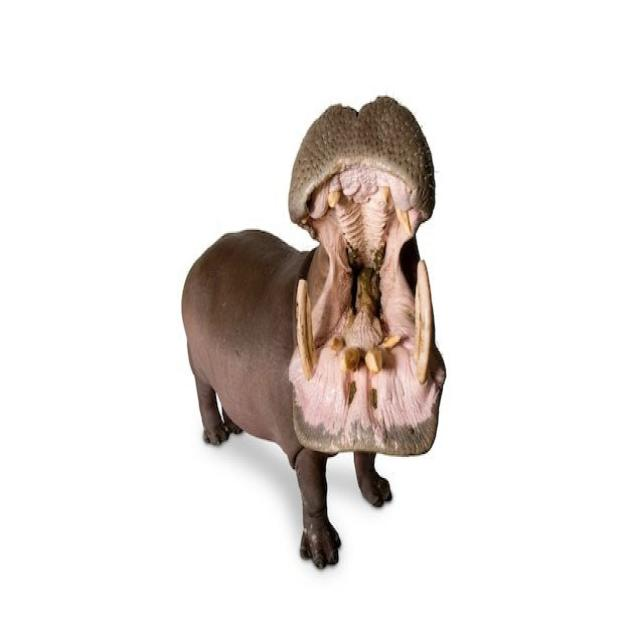hippopotamus: (182, 97, 445, 567)
